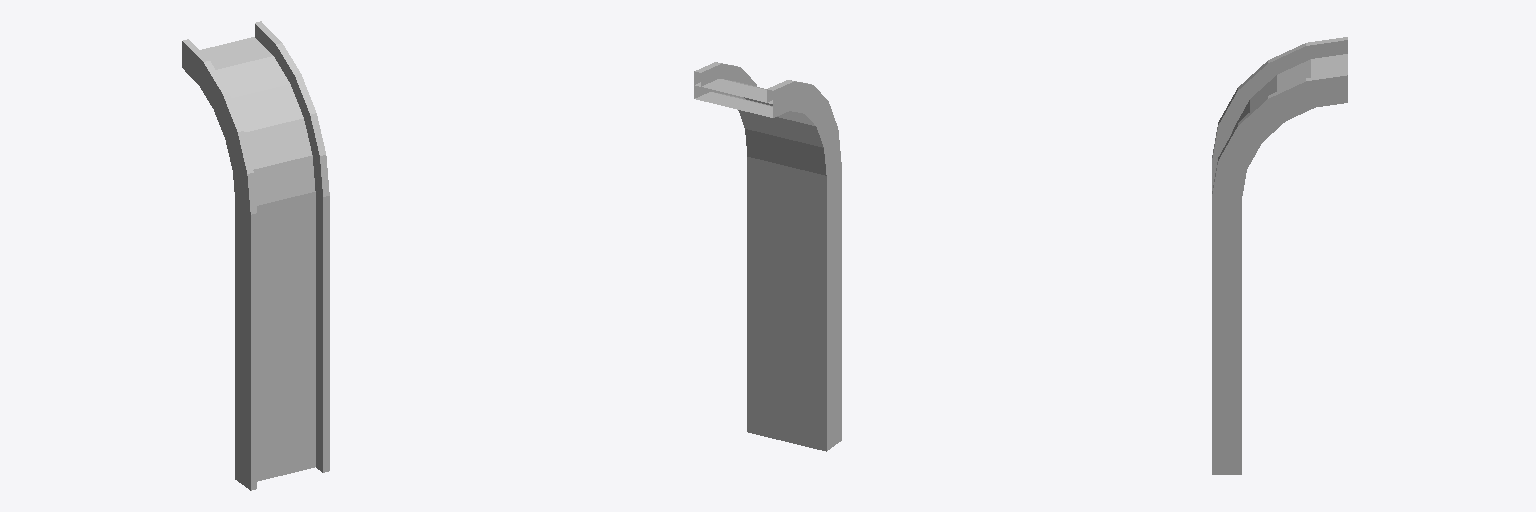
The model's file is N - Straight Down.obj.
3 renders of one model, left to right at view 1: azimuth 30°, elevation 25°; view 2: azimuth 150°, elevation 25°; view 3: azimuth 270°, elevation 25°, orthographic.
Visible parts, largest first — view 1: polySurface10; view 2: polySurface10; view 3: polySurface10.
Part boxes in pixels (x1,y1,x2,y2): polySurface10: (182,21,329,490); polySurface10: (694,62,841,451); polySurface10: (1212,37,1347,474).
Bounding box in the file's own units: 420 × 2030 × 630.